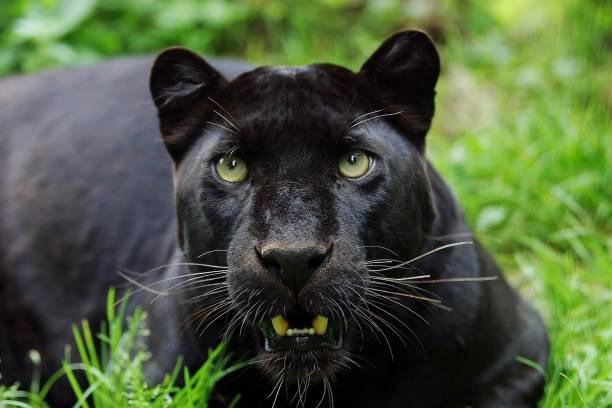panther: (125, 23, 463, 384)
